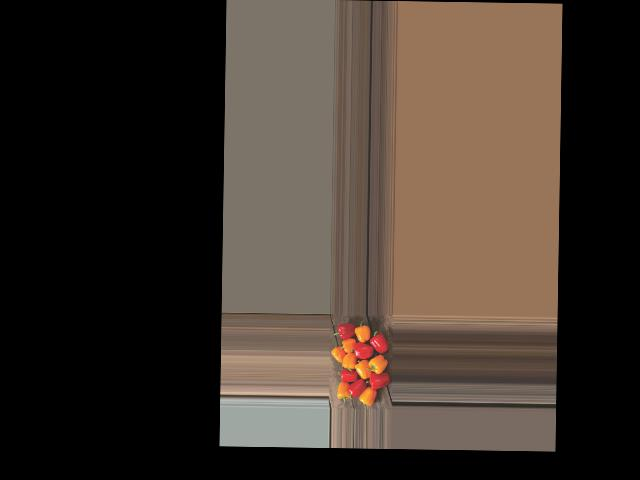bell_pepper: (359, 381, 380, 406)
